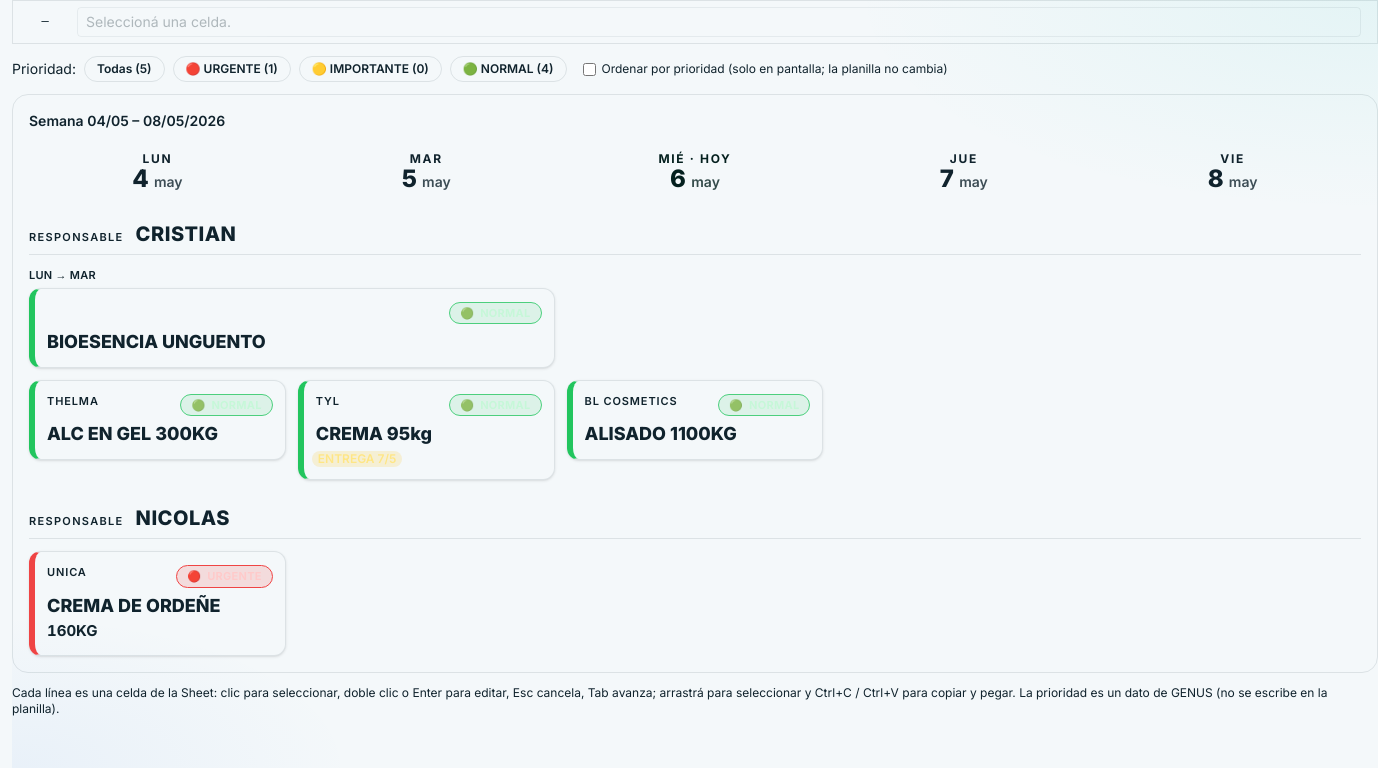
Scenario: Prioridades en las tarjetas › filtrar y ordenar por prioridad es solo visual
The width and height of the screenshot is (1378, 768).
What coordinates should you click on to do the following:
click the button with test id "priority-filter-URGENTE"
I would click on:
 (232, 69)
Its box is [173,56,291,82].
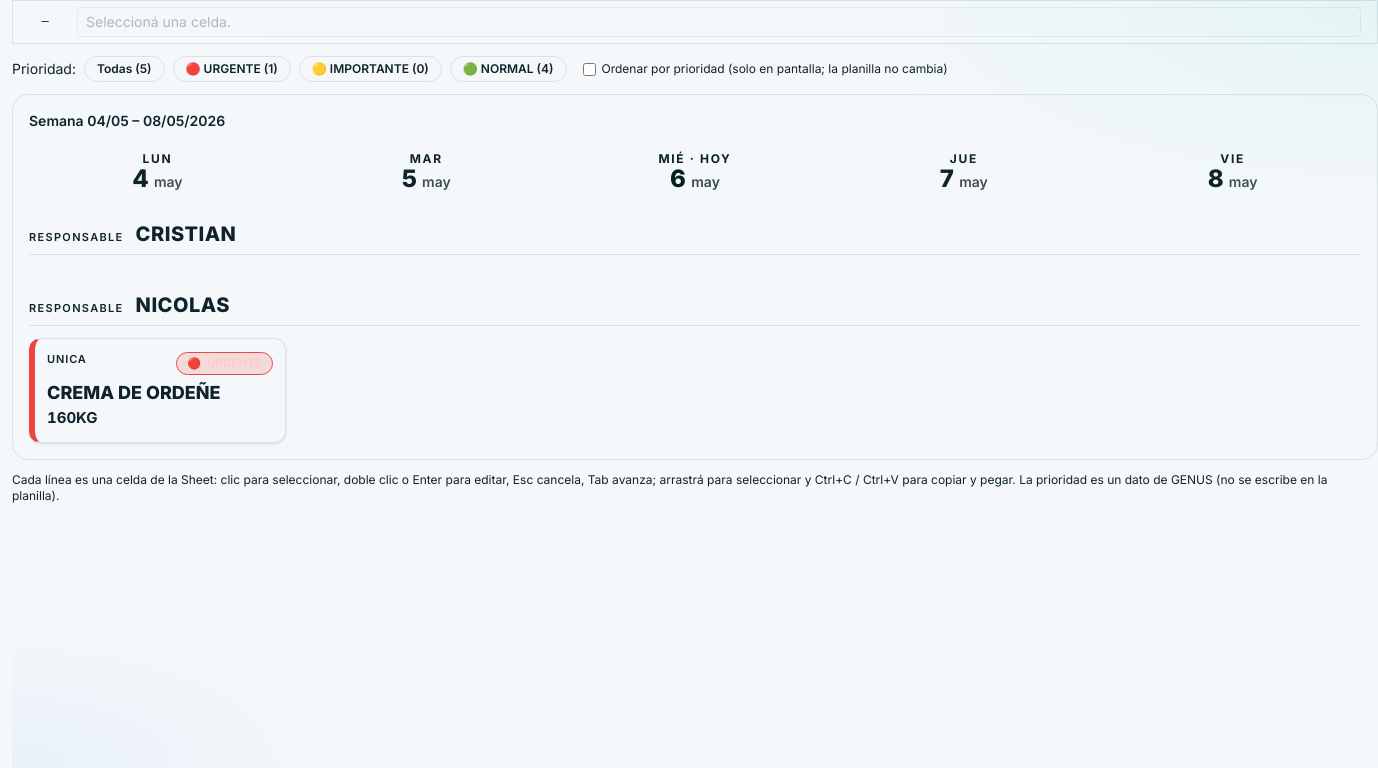
Check: the number of elements with test id "task-card" is 1, box [29,338,286,443]
What coordinates should you click on to do the following:
click the button with test id "priority-filter-ALL"
I would click on:
 (124, 69)
Its box is [84,56,165,82].
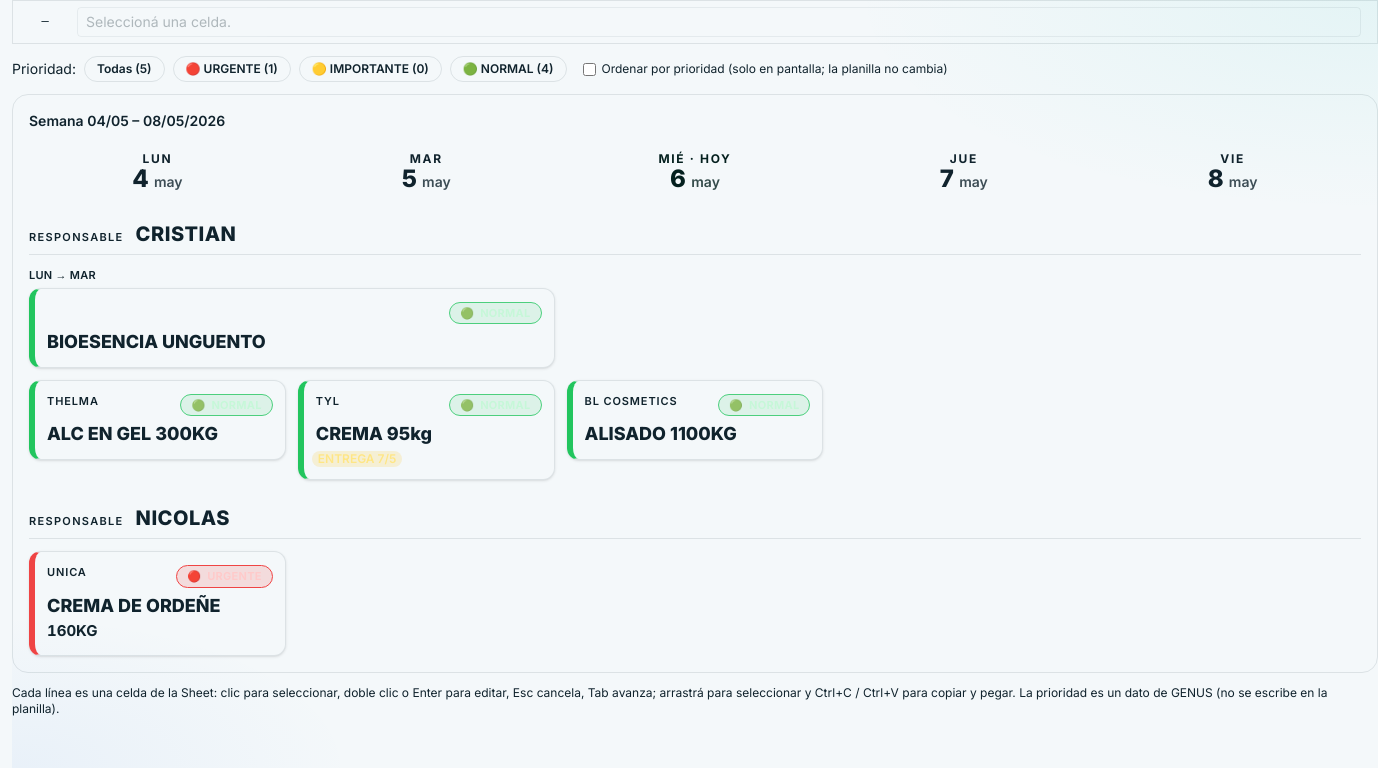
Check: the number of elements with test id "task-card" is 5, box [29,288,555,368]; [29,380,286,460]; [298,380,555,480]; [567,380,823,460]; [29,551,286,656]
Check: the text "ALC EN GEL 300KG" is shown, box [47,423,218,444]
